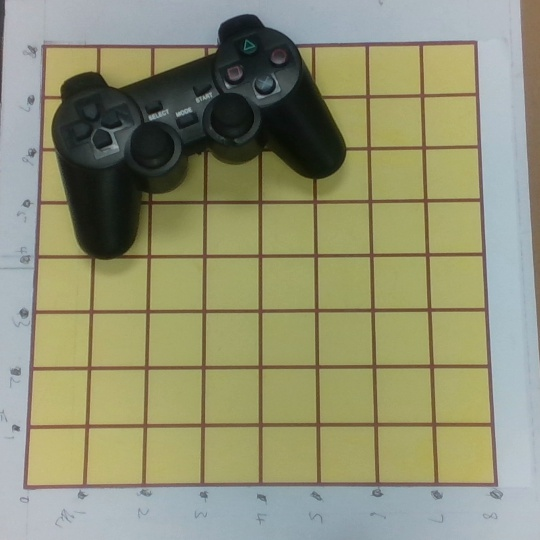remote: (54, 12, 349, 262)
